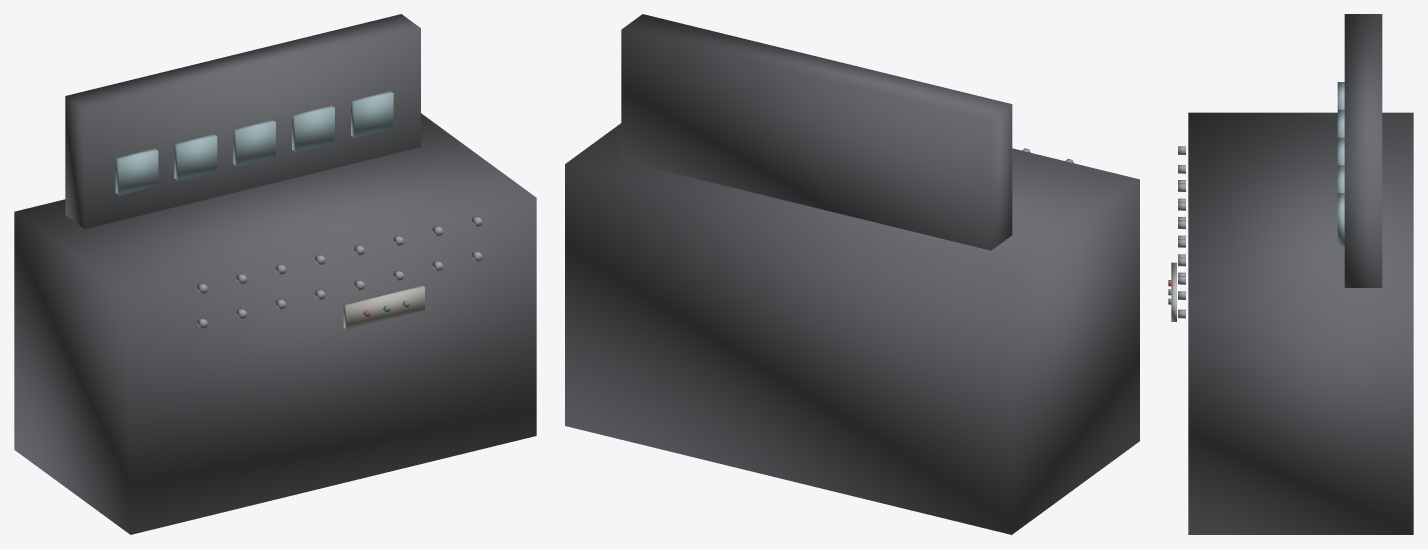
File: radio_console__reinforced.glb
3 renders of one model, left to right at view 1: azimuth 30°, elevation 25°; view 2: azimuth 150°, elevation 25°; view 3: azimuth 270°, elevation 25°, orthographic. The views are drawn at different scales.
Parts seen in each view (by area): view 1: world; view 2: world; view 3: world.
Boxes of the visible parts, x1,y1,x2,y2 form: world: [14, 14, 536, 534]; world: [565, 14, 1139, 534]; world: [1168, 14, 1413, 534].
Bounding box in the file's own units: 1.49 × 1.25 × 0.807.
